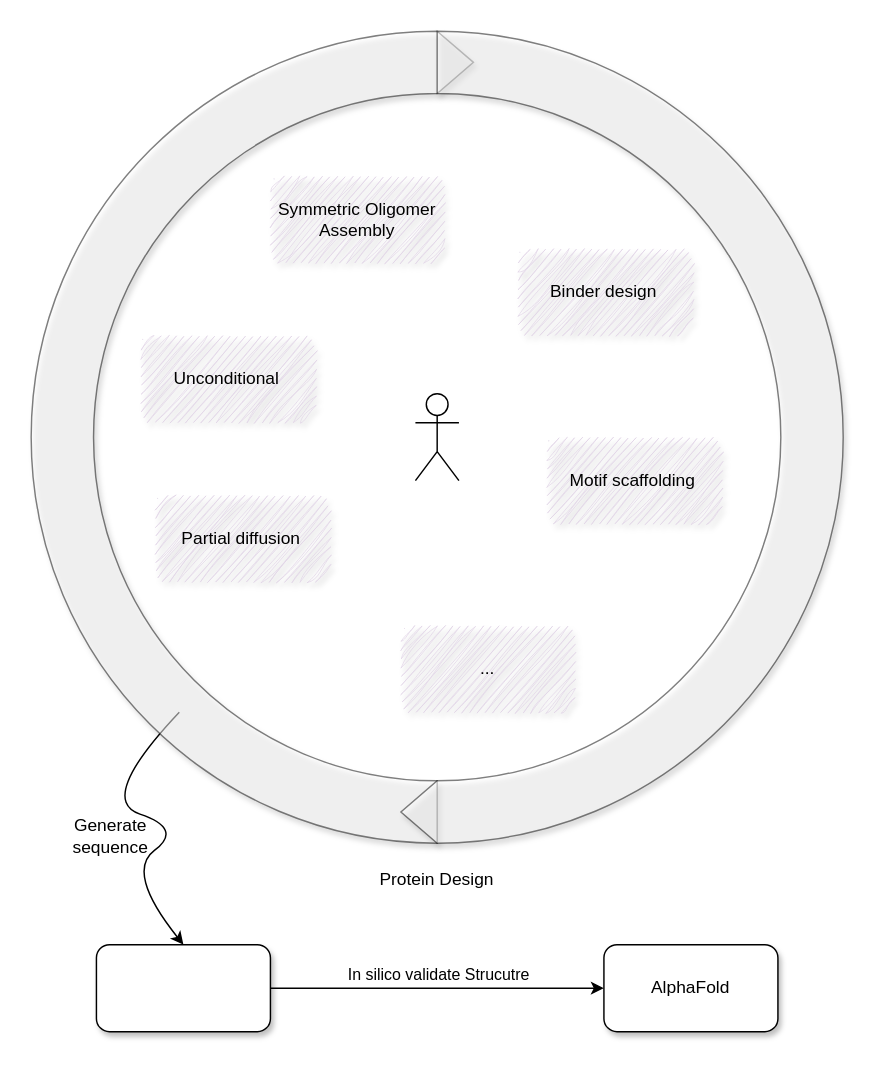
This 877x1067 diagram has some shape labels left out. Here are the shapes that lost their labels. From the top down, the centre of each, then its label:
the point at 436,436: You
the point at 184,989: ProteinMPNN
